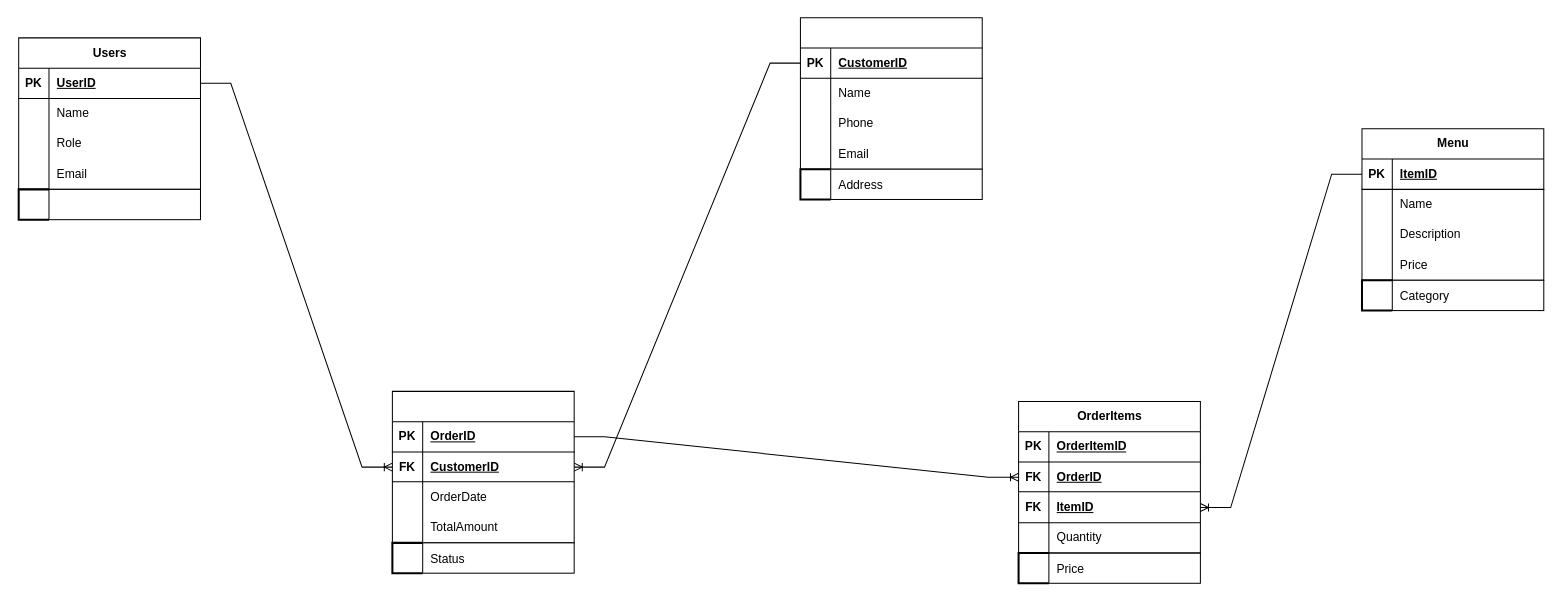
This 1561x602 diagram has some shape labels left out. The shapes that lost their labels are listed below. From the top down, each one's box as (x1, y1, x2, y2) in pixels, then its label:
(799, 17, 982, 169): Customers
(391, 390, 574, 543): Orders
